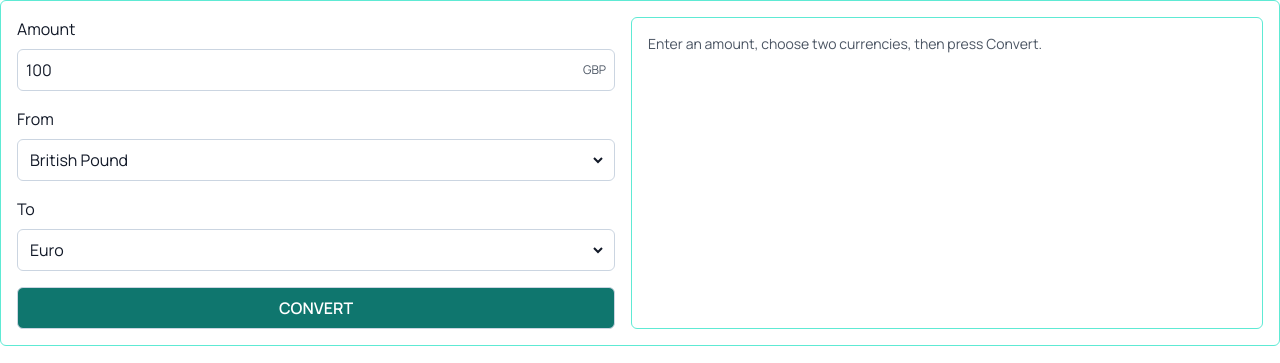
Test: CurrencyForm › shows the converted result after a successful conversion
Expected: the dropdown labelled "From" is shown, [26,148,606,172]
Step 1. Click the button "CONVERT" → coordinates (316, 308), box [17,287,615,329]
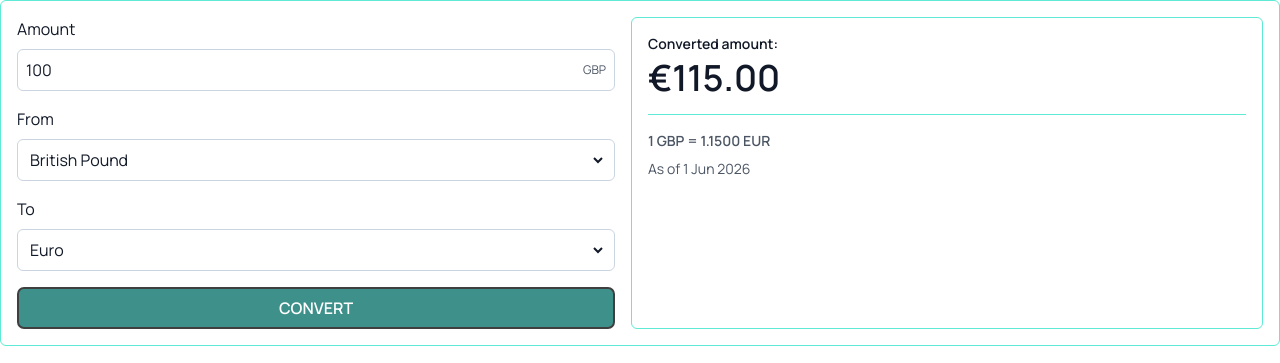
Result: the text "Converted amount:" is shown at [648,34,778,53]
Result: the text "€115.00" is shown at [648,58,1246,115]
Result: the text "1 GBP = 1.1500 EUR" is shown at [648,131,770,150]
